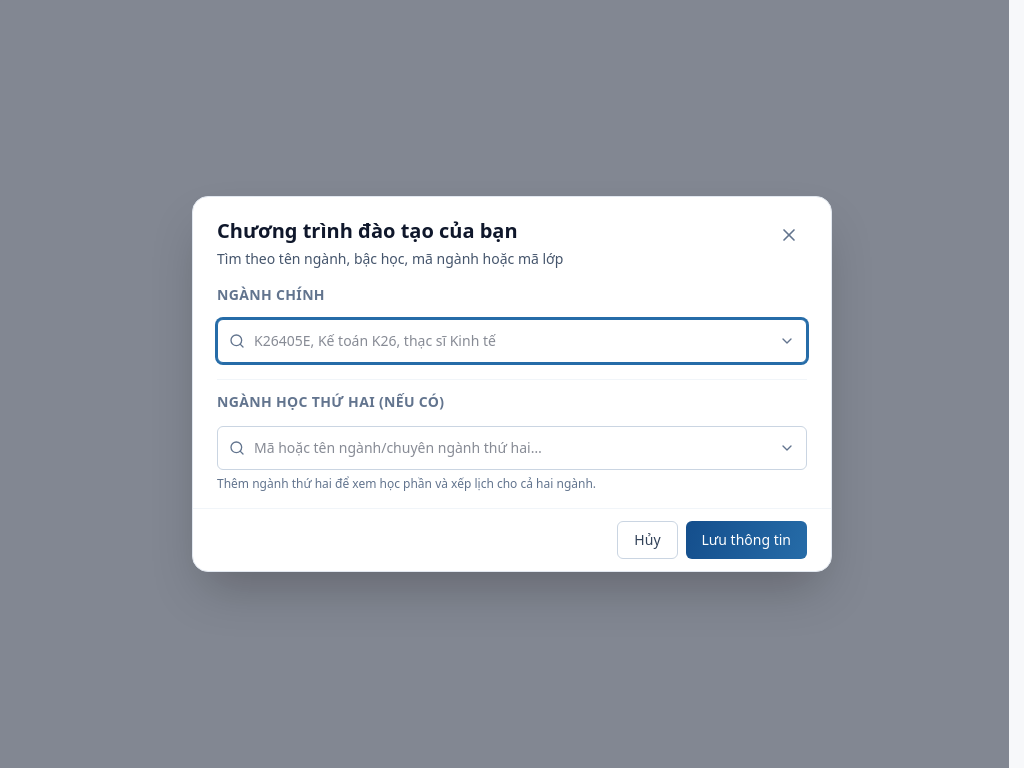
Test: ProgramProfileDialog › renders natural program description when valid primary code is entered
Expected: the field with placeholder "Mã hoặc tên ngành/chuyên ngành thứ hai…" is shown, [217,426,807,470]
Type "K25405A" into the field labelled "Ngành chính" at (512, 341), box [217,319,807,363]
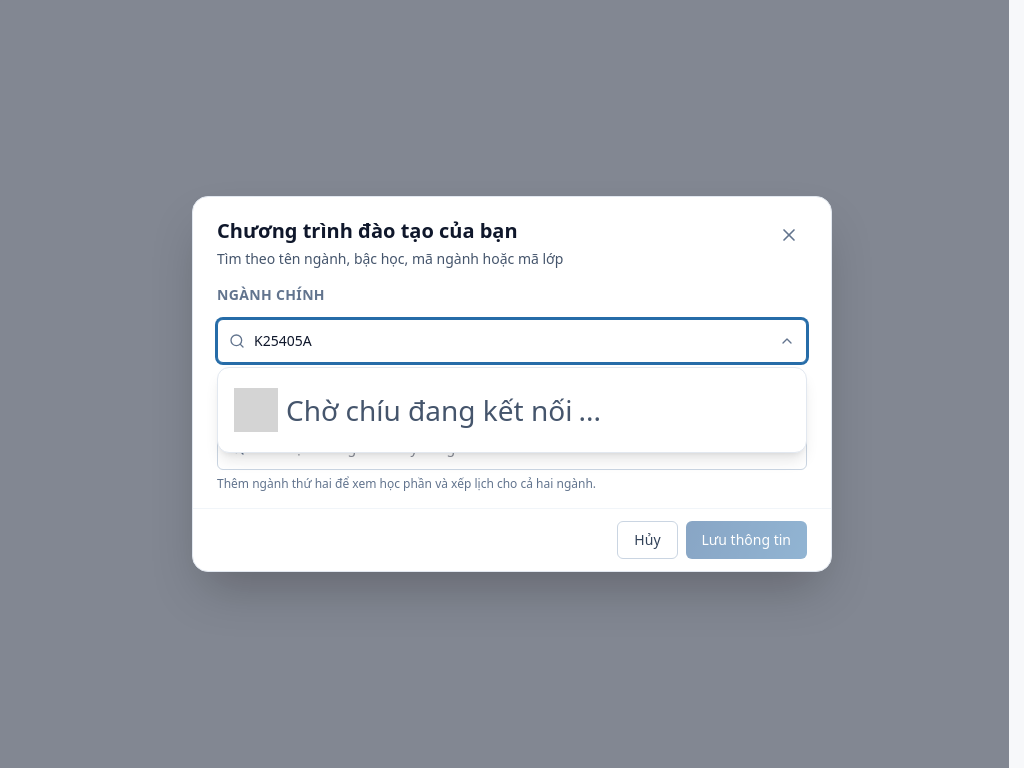
Press Enter in the field labelled "Ngành chính", box [217,319,807,363]
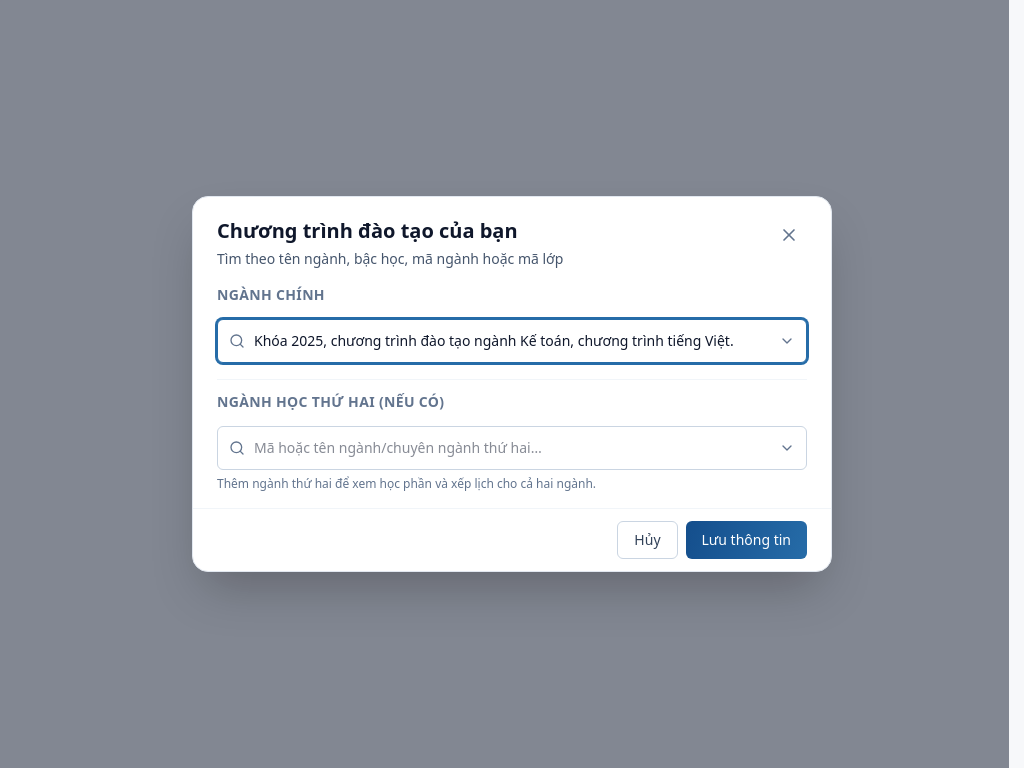
Expected: the field labelled "Ngành chính" holds "Khóa 2025, chương trình đào tạo ngành Kế toán, chương trình tiếng Việt.", [217,319,807,363]
